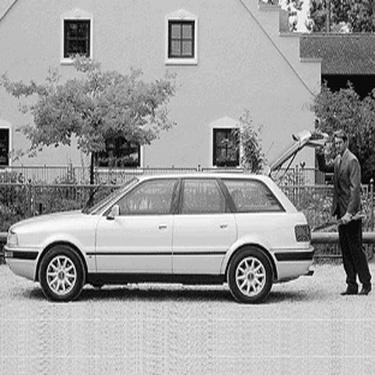car: (2, 123, 333, 320)
